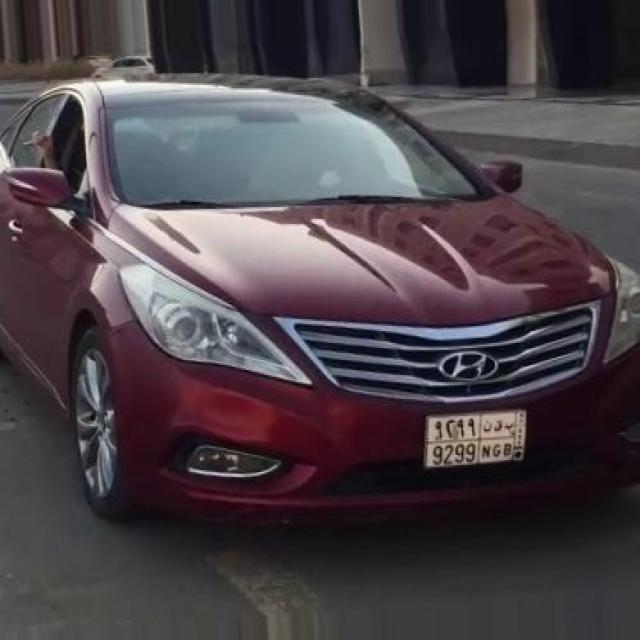Car-plate: (418, 405, 537, 476)
